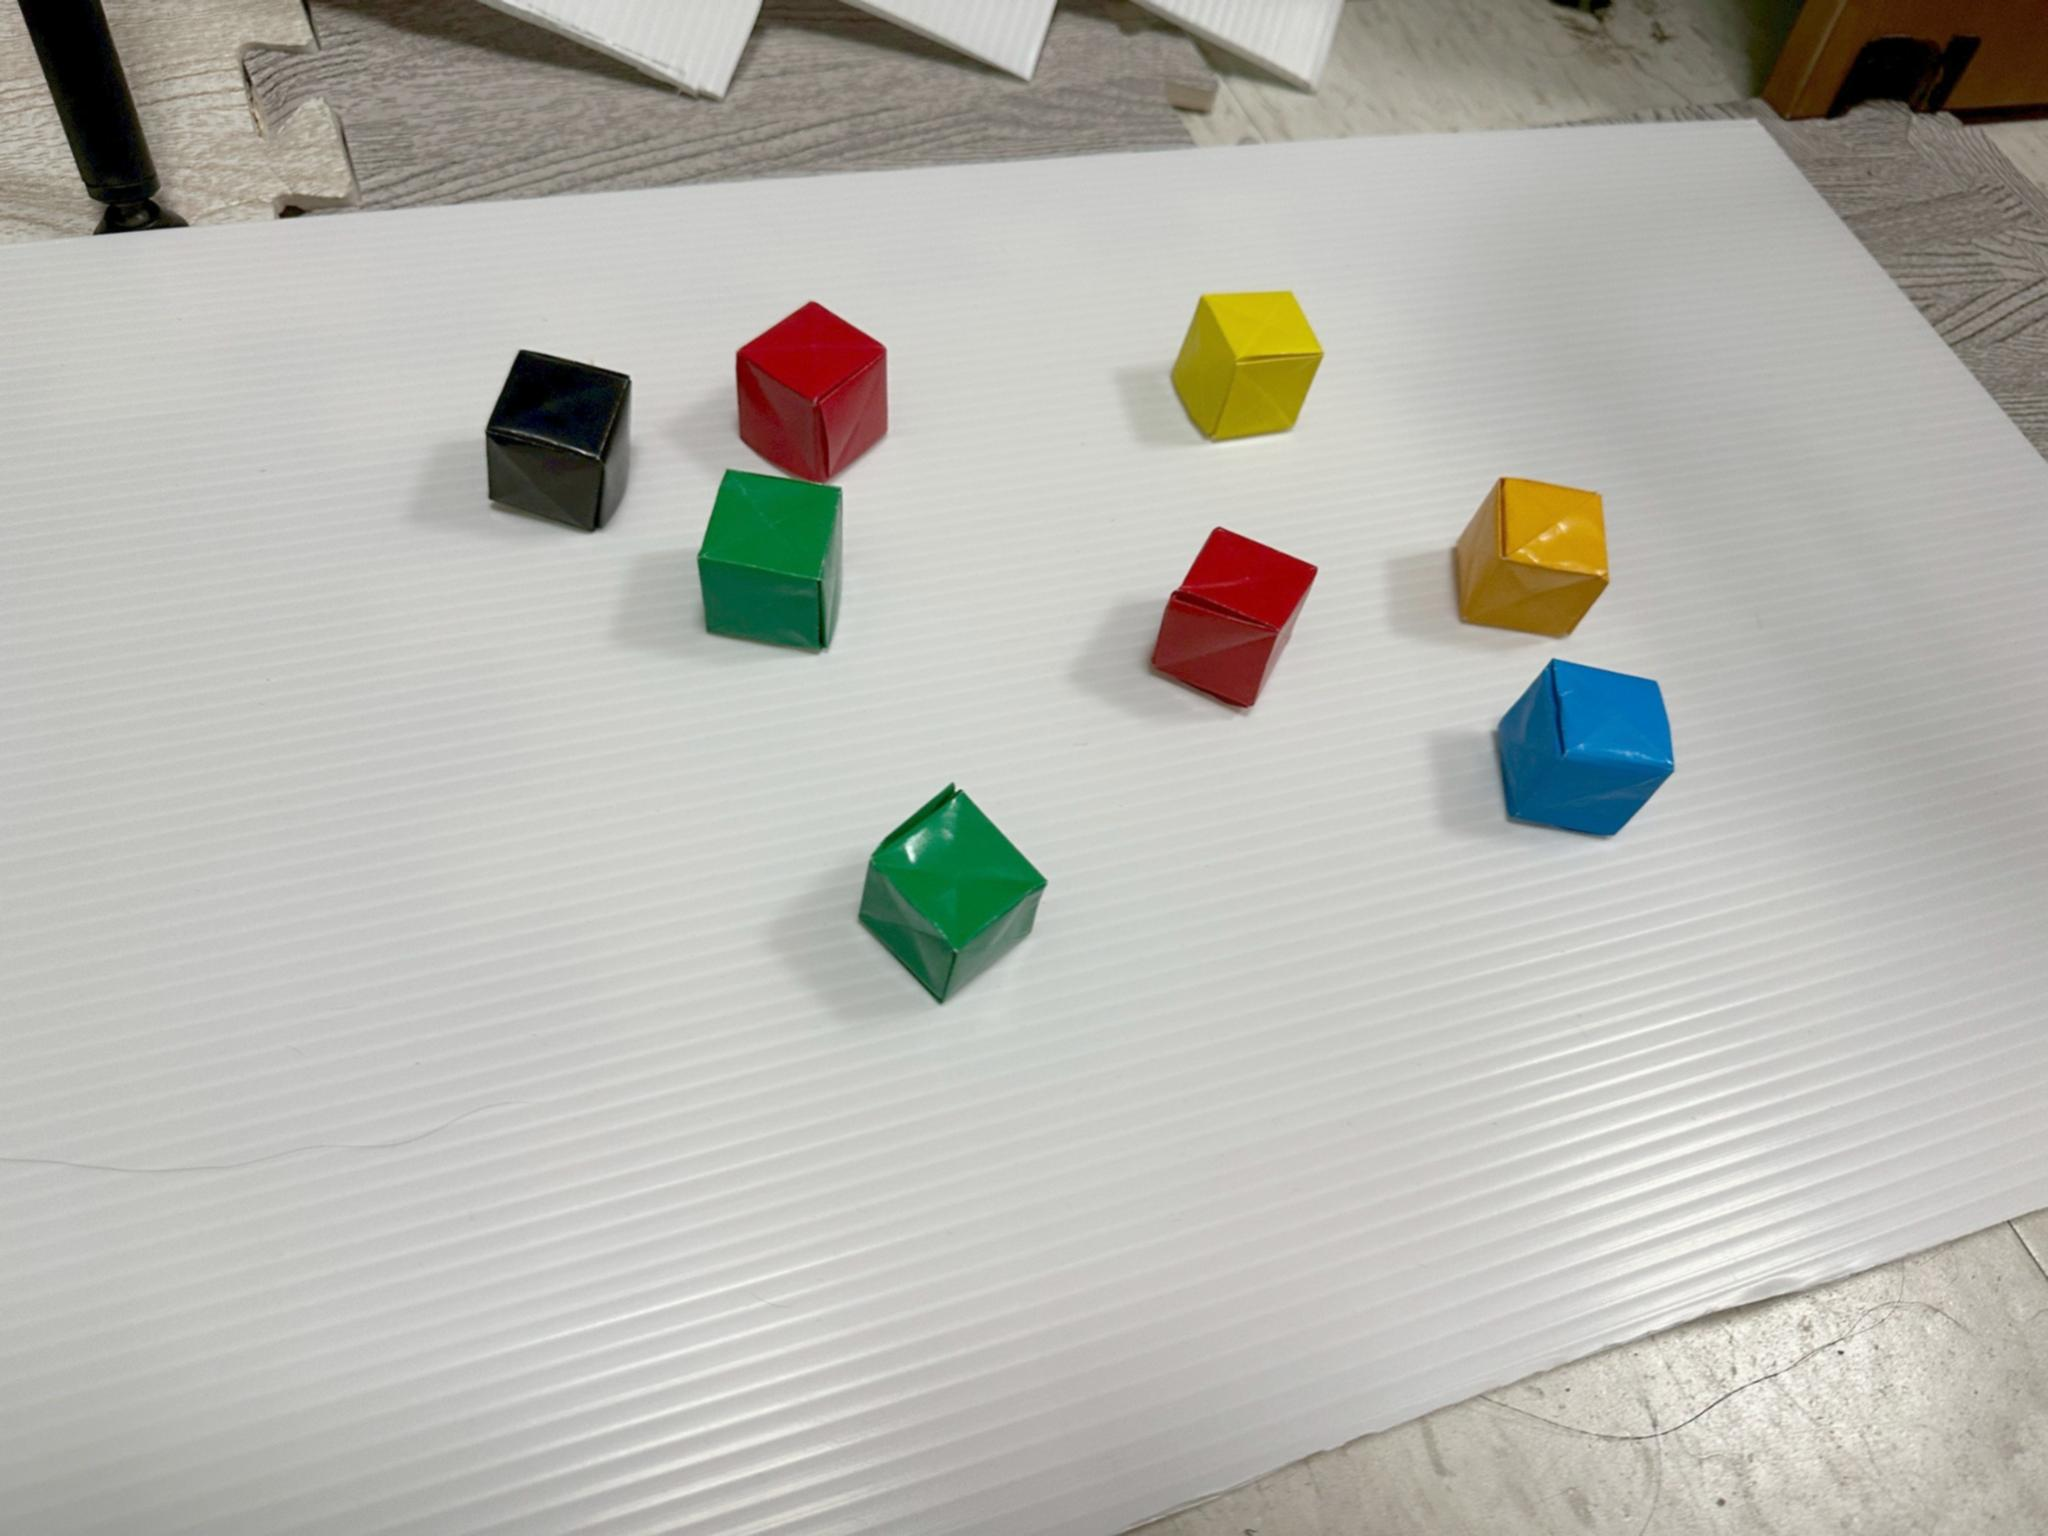base: (860, 787, 1047, 1002), (1498, 662, 1674, 836), (1153, 529, 1317, 708), (737, 303, 889, 481), (487, 350, 631, 531), (700, 470, 842, 652), (1456, 478, 1609, 637), (1172, 290, 1322, 439)
